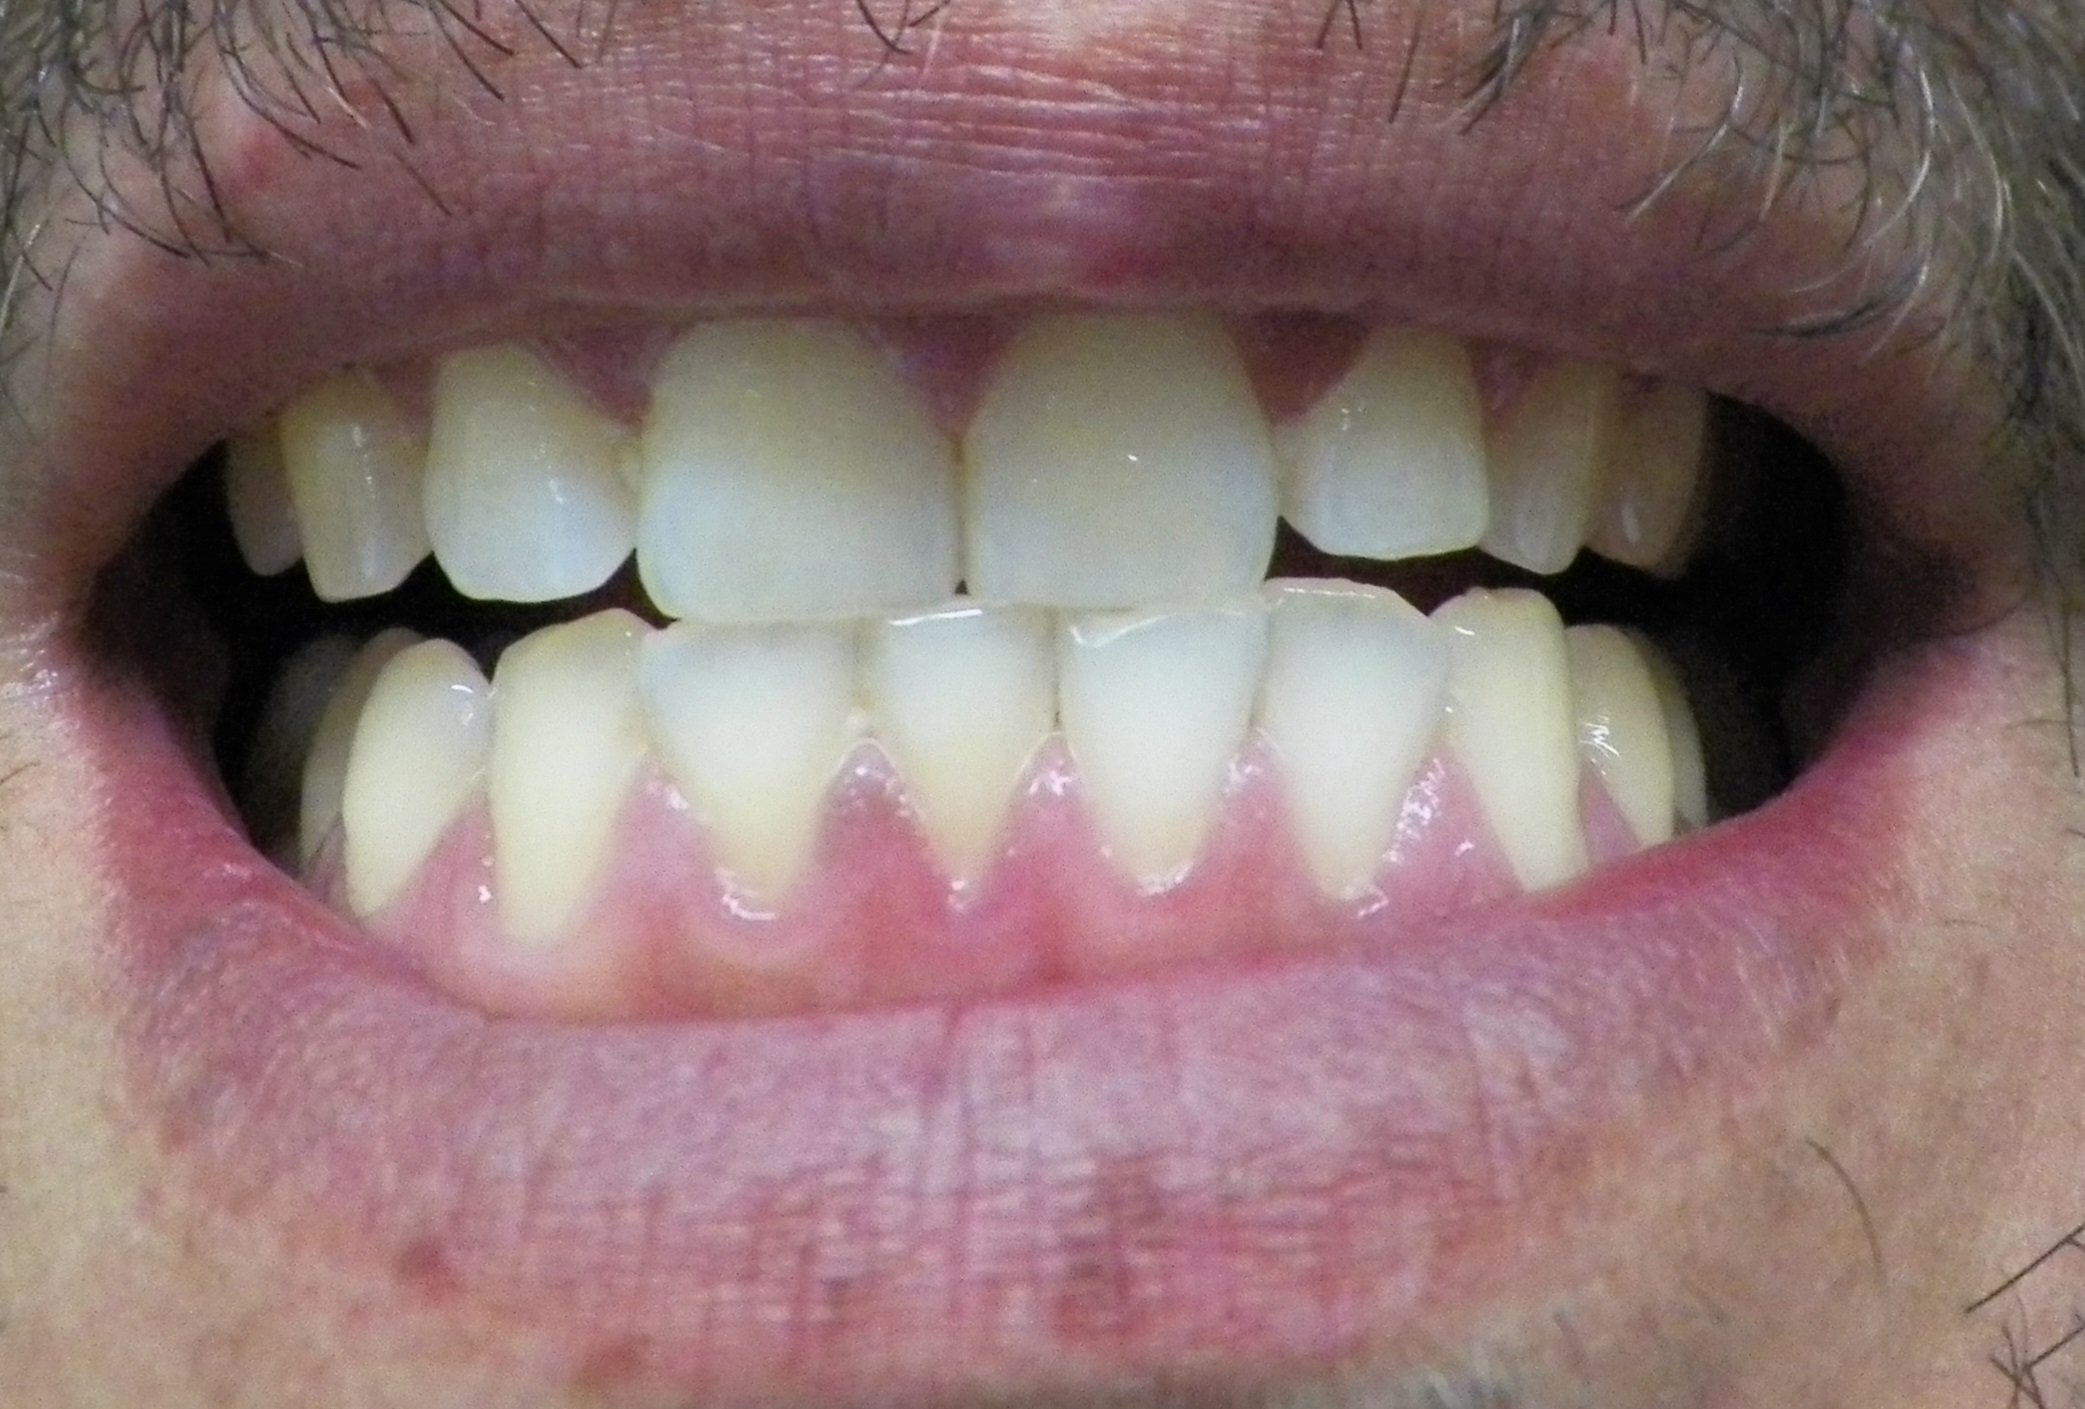boca: (281, 337, 1712, 939)
